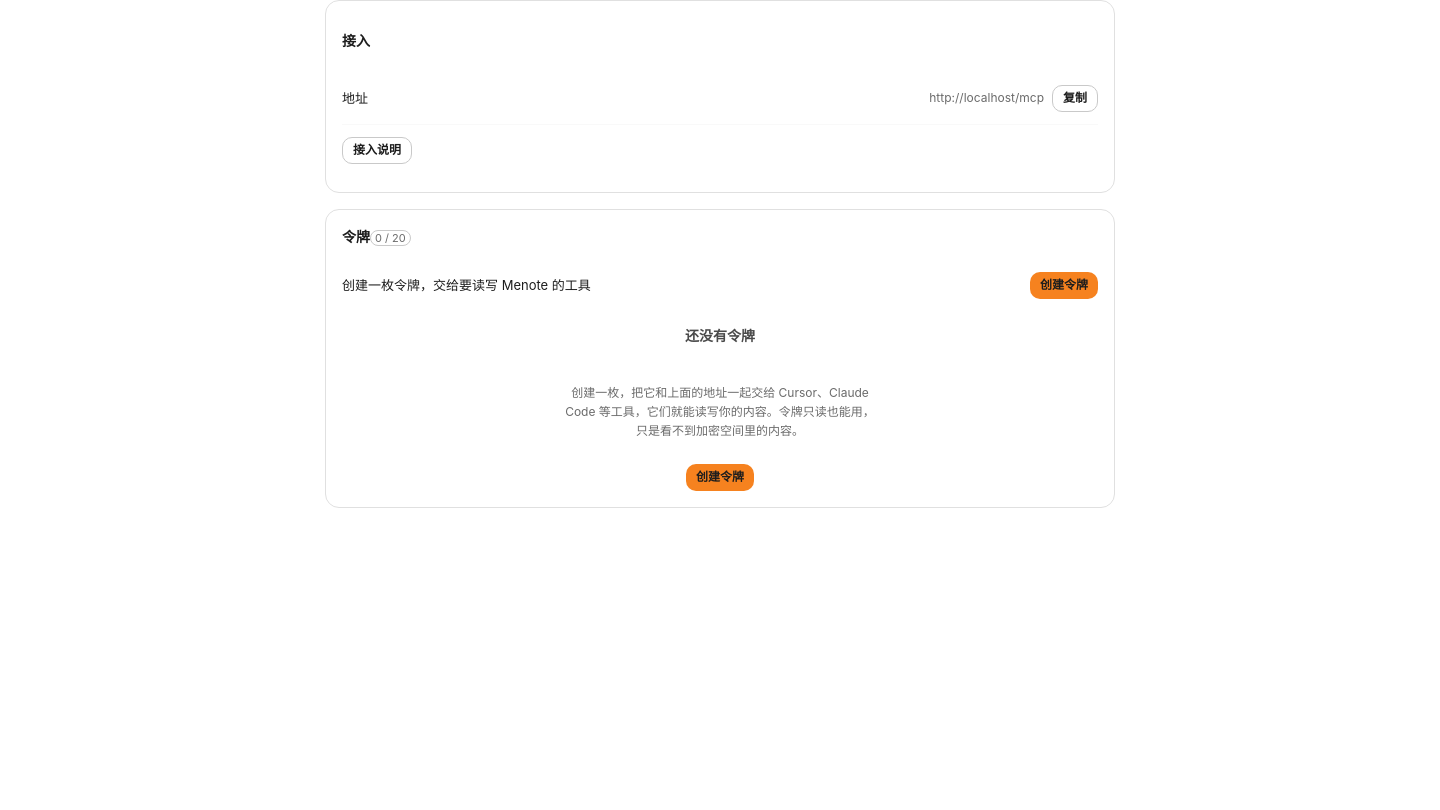
Test case: 设置 › MCP：创建弹窗 › 名称必填：空着提交就地报错
Expected: the text "还没有令牌" is shown, 685,325 -> 755,346
What coordinates should you click on to do the following:
click the button "创建令牌" in the row of "创建一枚令牌，交给要读写 Menote 的工具"
I would click on:
 (1064, 285)
Its box is 1030,272 -> 1098,299.
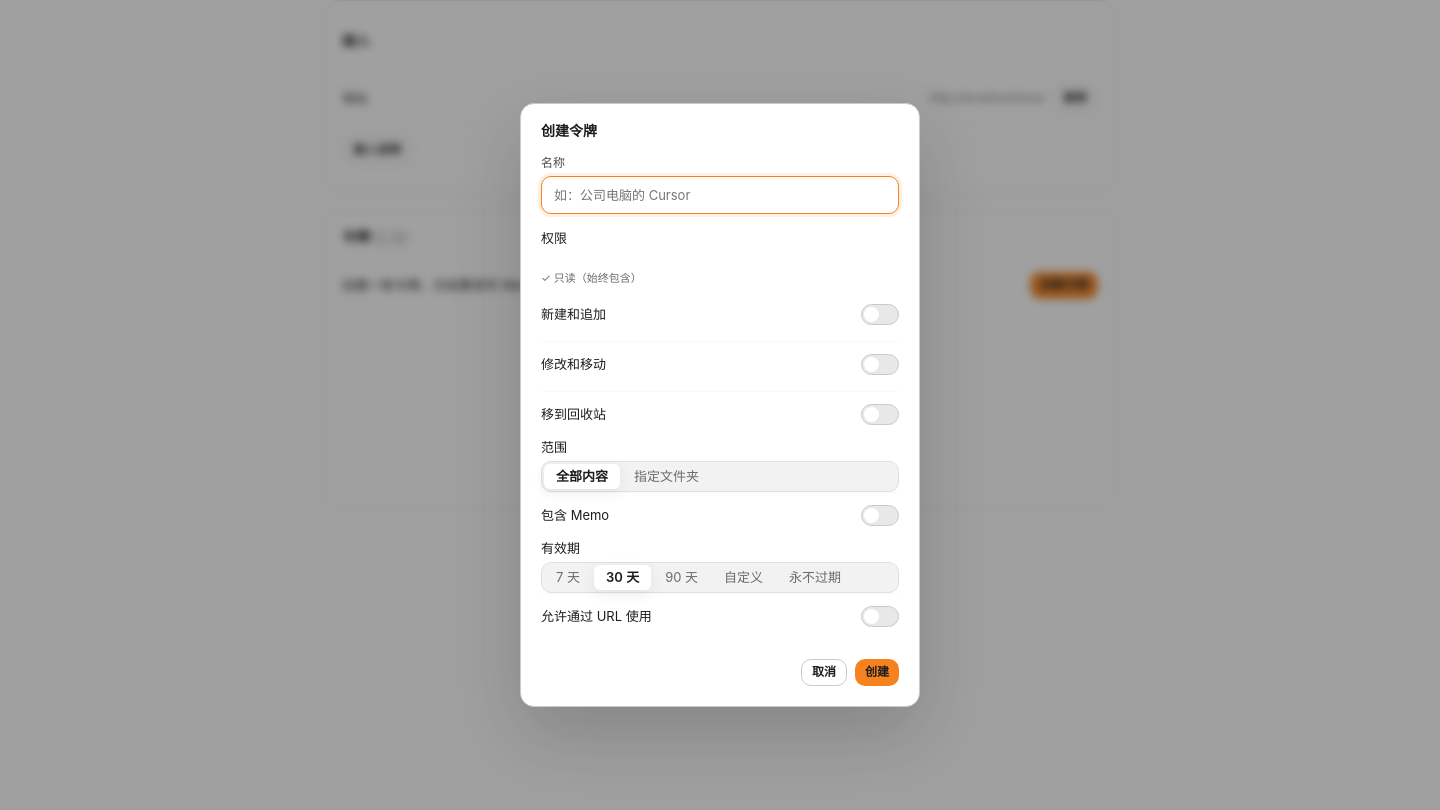
What coordinates should you click on to do the following:
click the button "创建"
I would click on:
 (877, 672)
Its box is 855,659 -> 899,686.
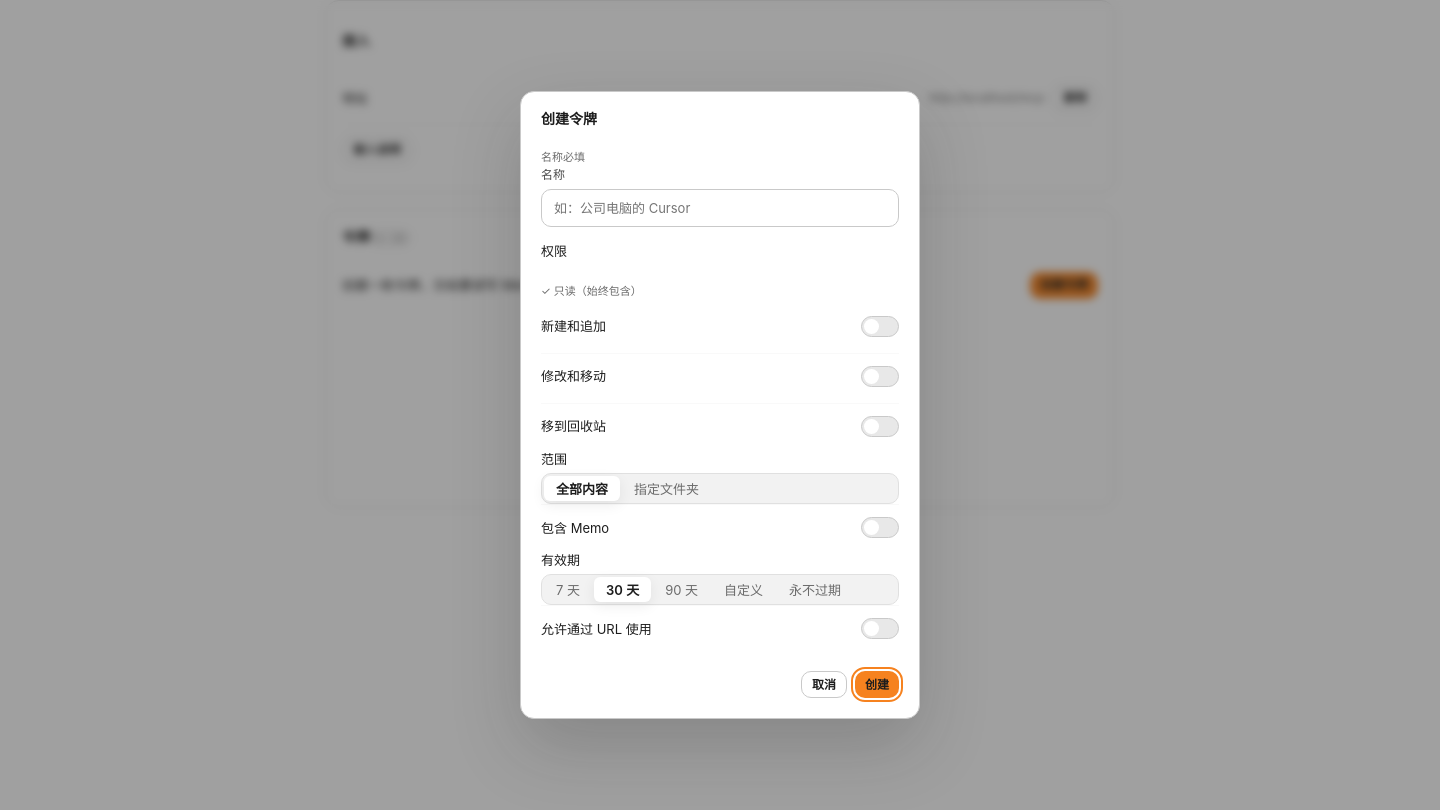
Expected: the text "名称必填" is shown, 541,150 -> 585,164
